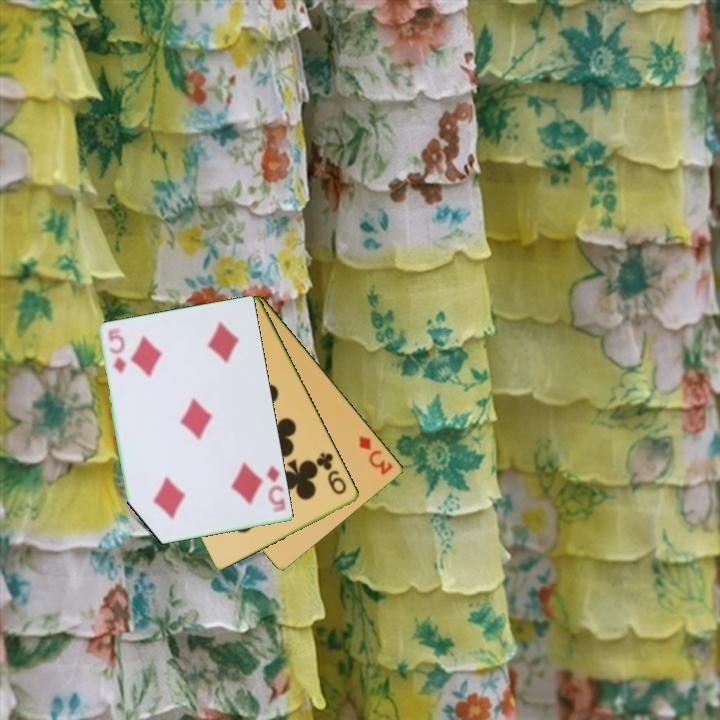3d: (355, 432, 396, 478)
5d: (263, 462, 289, 516), (105, 327, 129, 377)
9c: (313, 449, 350, 498)
